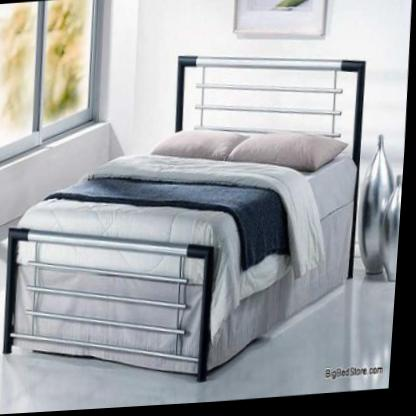Bed: (0, 44, 373, 395)
